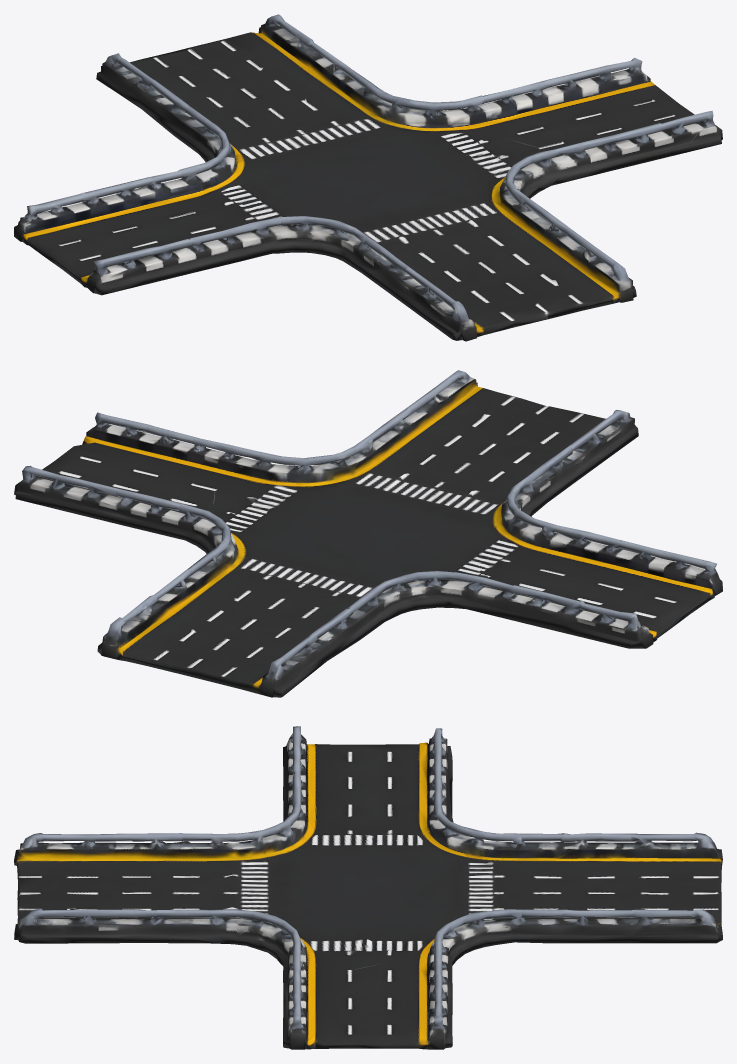
The model's file is 4-3lane intersection.glb.
3 renders of one model, top to bottom at view 1: azimuth 30°, elevation 25°; view 2: azimuth 150°, elevation 25°; view 3: azimuth 270°, elevation 25°, orthographic. The views are drawn at different scales.
Parts seen in each view (by area): view 1: tripo_node_b2ff70ad-2acf-4a7d-ab6a-c652649091e0; view 2: tripo_node_b2ff70ad-2acf-4a7d-ab6a-c652649091e0; view 3: tripo_node_b2ff70ad-2acf-4a7d-ab6a-c652649091e0.
Boxes of the visible parts, x1,y1,x2,y2 form: tripo_node_b2ff70ad-2acf-4a7d-ab6a-c652649091e0: (14, 14, 722, 341); tripo_node_b2ff70ad-2acf-4a7d-ab6a-c652649091e0: (14, 370, 722, 697); tripo_node_b2ff70ad-2acf-4a7d-ab6a-c652649091e0: (14, 726, 722, 1049).
Size of the model in its own units: 1 by 0.0454 by 0.9978.
Materials: 1 (1 with a texture image).
